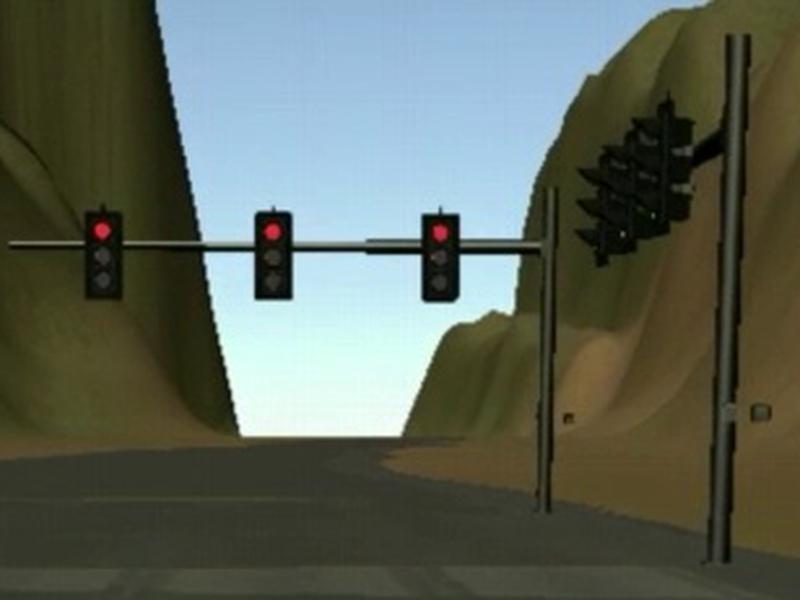Red: (254, 210, 292, 300), (84, 211, 122, 300), (422, 213, 459, 302)
